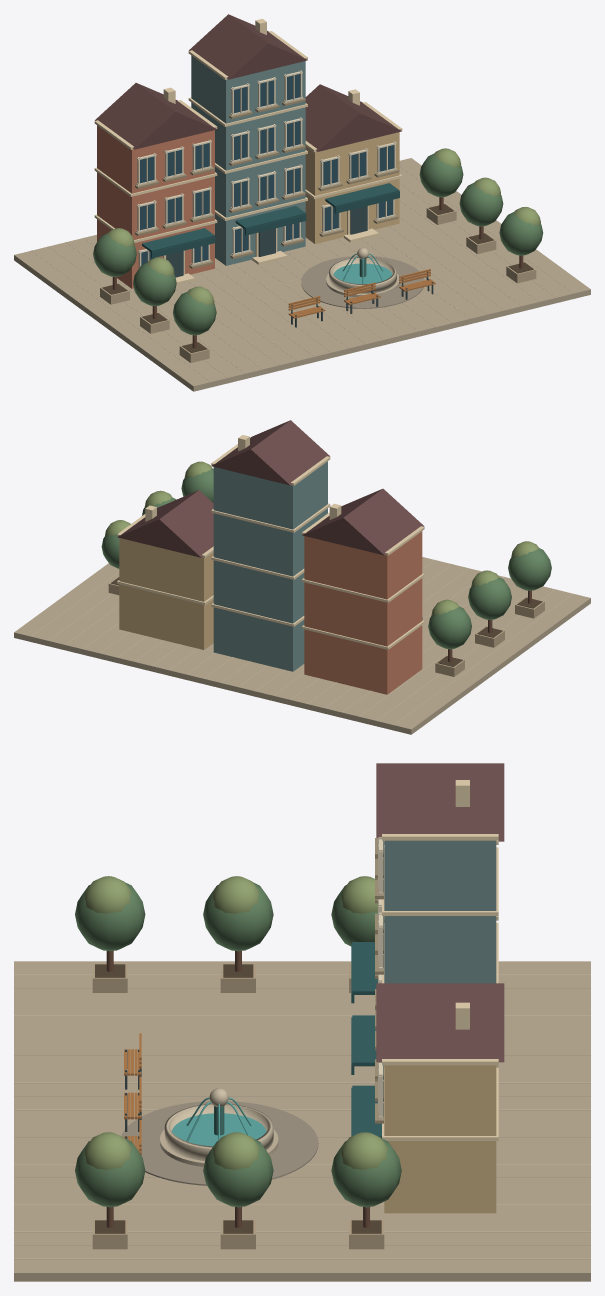
File: courtyard.glb
The picture shows the model from 3 angles, top to bottom: view 1: azimuth 30°, elevation 25°; view 2: azimuth 150°, elevation 25°; view 3: azimuth 270°, elevation 25°; orthographic projection. The views are drawn at different scales.
Visible parts, largest first — view 1: courtyard/ground, courtyard/blueHouse/walls, courtyard/copperHouse/walls, courtyard/copperHouse/roof, courtyard/creamHouse/walls, courtyard/blueHouse/roof, courtyard/creamHouse/roof, courtyard/plaza, courtyard/avenueTrees/2/crown, courtyard/avenueTrees/3/crown, courtyard/avenueTrees/4/crown, courtyard/avenueTrees/5/crown (+8 smaller); view 2: courtyard/ground, courtyard/blueHouse/walls, courtyard/copperHouse/walls, courtyard/creamHouse/walls, courtyard/copperHouse/roof, courtyard/blueHouse/roof, courtyard/creamHouse/roof, courtyard/avenueTrees/1/crown, courtyard/avenueTrees/0/crown, courtyard/avenueTrees/2/crown, courtyard/avenueTrees/5/crown, courtyard/avenueTrees/3/crown (+3 smaller); view 3: courtyard/ground, courtyard/blueHouse/walls, courtyard/creamHouse/walls, courtyard/creamHouse/roof, courtyard/blueHouse/roof, courtyard/plaza, courtyard/avenueTrees/3/crown, courtyard/avenueTrees/1/crown, courtyard/avenueTrees/4/crown, courtyard/avenueTrees/5/crown, courtyard/avenueTrees/2/crown, courtyard/fountain/basin (+23 smaller).
Part boxes in pixels (<box>): courtyard/ground: <box>14,158,590,391</box>; courtyard/blueHouse/walls: <box>191,55,305,265</box>; courtyard/copperHouse/walls: <box>97,125,214,288</box>; courtyard/copperHouse/roof: <box>95,83,216,149</box>; courtyard/creamHouse/walls: <box>305,132,399,243</box>; courtyard/blueHouse/roof: <box>189,14,307,79</box>; courtyard/creamHouse/roof: <box>305,84,401,151</box>; courtyard/plaza: <box>301,256,424,308</box>; courtyard/avenueTrees/2/crown: <box>173,291,216,335</box>; courtyard/avenueTrees/3/crown: <box>419,153,463,197</box>; courtyard/avenueTrees/4/crown: <box>459,182,503,226</box>; courtyard/avenueTrees/5/crown: <box>499,212,543,255</box>; courtyard/ground: <box>14,557,590,734</box>; courtyard/blueHouse/walls: <box>213,461,327,671</box>; courtyard/copperHouse/walls: <box>304,531,422,694</box>; courtyard/creamHouse/walls: <box>119,538,213,649</box>; courtyard/copperHouse/roof: <box>302,488,424,555</box>; courtyard/blueHouse/roof: <box>211,420,330,485</box>; courtyard/creamHouse/roof: <box>117,490,213,557</box>; courtyard/avenueTrees/1/crown: <box>468,577,511,619</box>; courtyard/avenueTrees/0/crown: <box>428,606,471,649</box>; courtyard/avenueTrees/2/crown: <box>508,548,551,590</box>; courtyard/avenueTrees/5/crown: <box>181,468,213,502</box>; courtyard/avenueTrees/3/crown: <box>101,533,119,568</box>; courtyard/ground: <box>14,961,590,1281</box>; courtyard/blueHouse/walls: <box>384,840,496,983</box>; courtyard/creamHouse/walls: <box>384,1065,496,1213</box>; courtyard/creamHouse/roof: <box>376,983,504,1062</box>; courtyard/blueHouse/roof: <box>376,763,504,837</box>; courtyard/plaza: <box>121,1101,318,1185</box>; courtyard/avenueTrees/3/crown: <box>331,1138,401,1207</box>; courtyard/avenueTrees/1/crown: <box>203,882,273,951</box>; courtyard/avenueTrees/4/crown: <box>203,1138,273,1207</box>; courtyard/avenueTrees/5/crown: <box>75,1138,145,1207</box>; courtyard/avenueTrees/2/crown: <box>75,882,145,951</box>; courtyard/fountain/basin: <box>164,1104,273,1160</box>.
Size of the model in its own units: 23 by 12.17 by 18.
